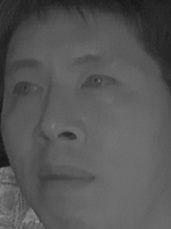eye: (77, 70, 118, 96), (10, 77, 45, 100)
mouth: (32, 161, 100, 197)
